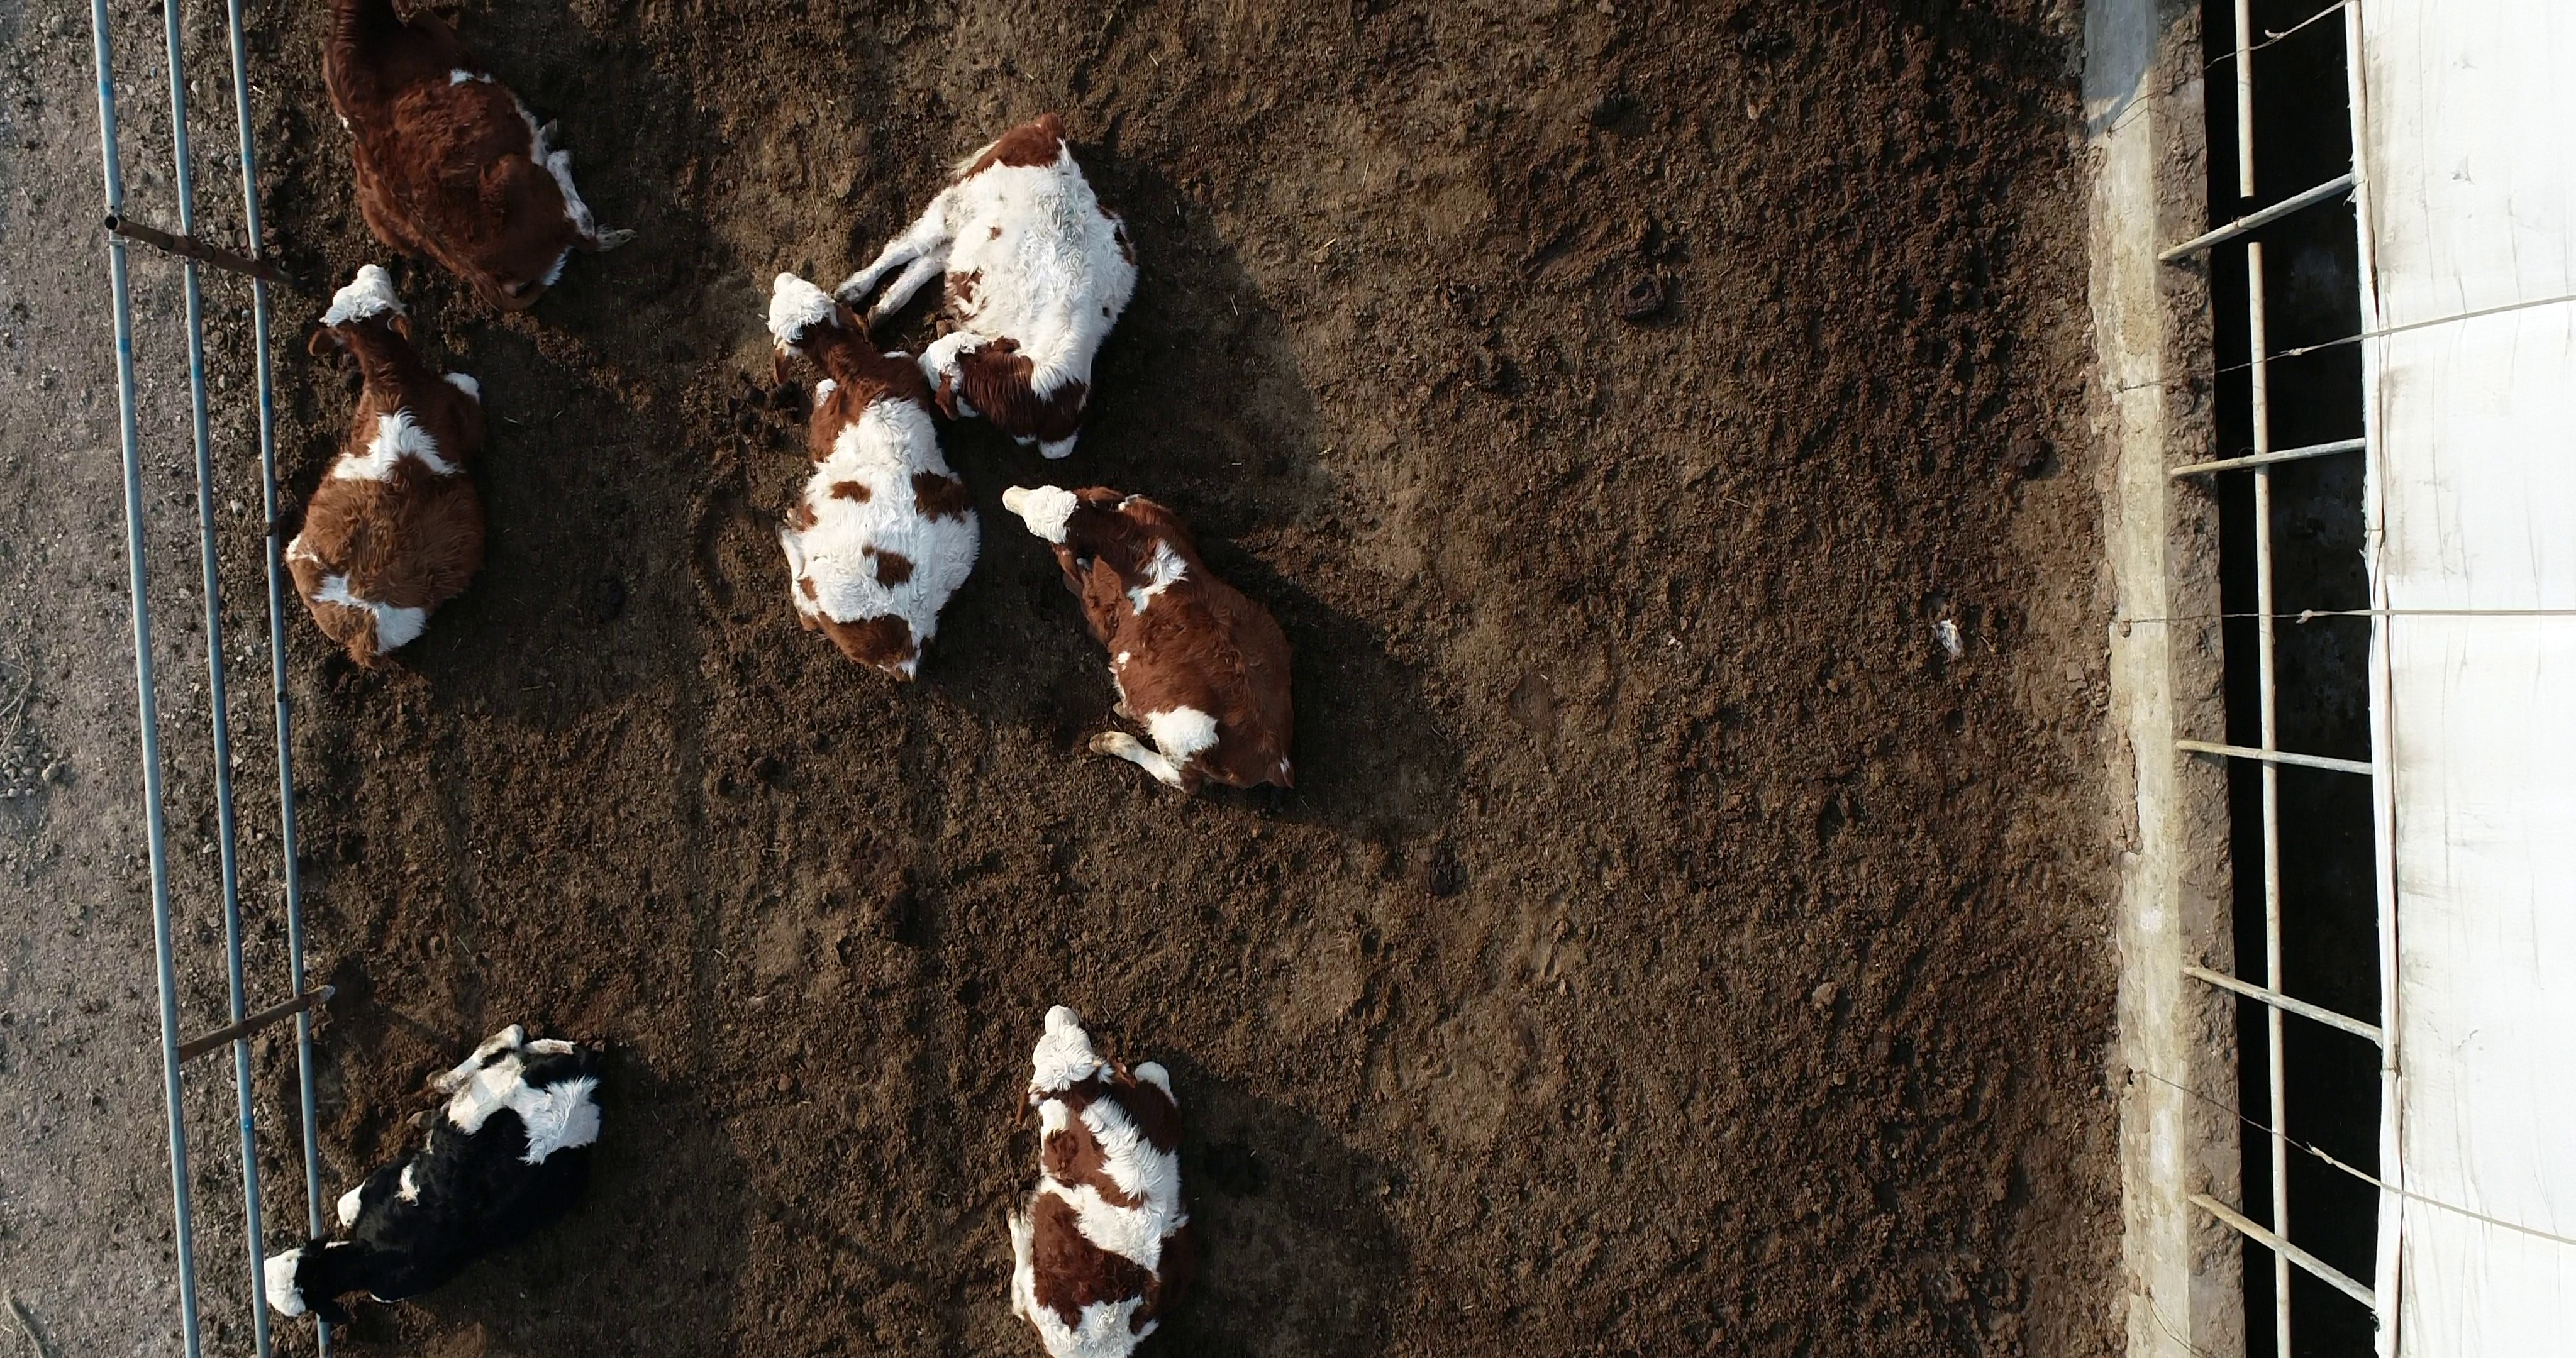cattle: (261, 1017, 617, 1334), (833, 107, 1148, 465), (995, 480, 1305, 804), (758, 269, 990, 693), (279, 259, 496, 678), (1000, 1002, 1201, 1358)
